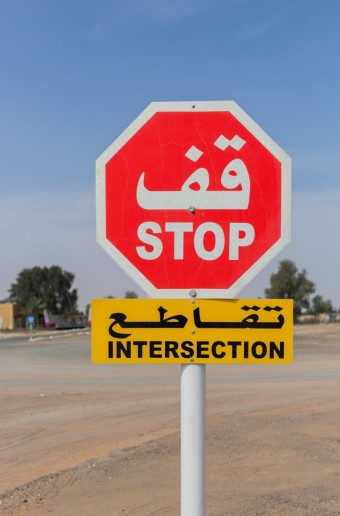SS: (95, 99, 292, 296)
